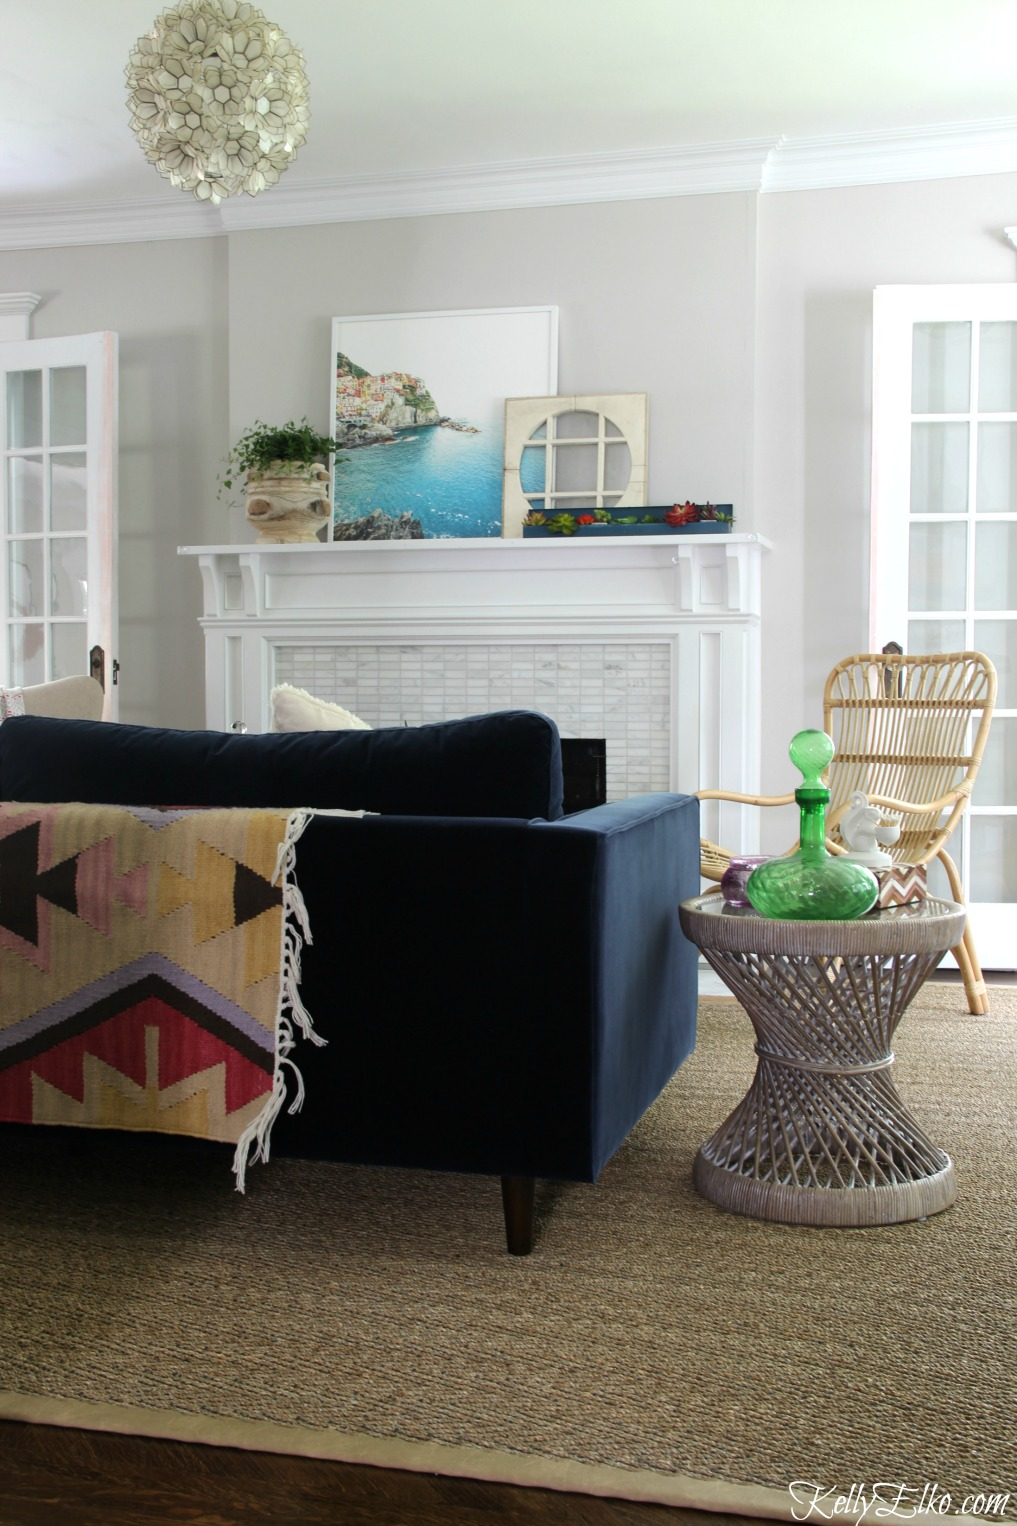hitam: (5, 713, 561, 813)
putih: (274, 686, 369, 730)
